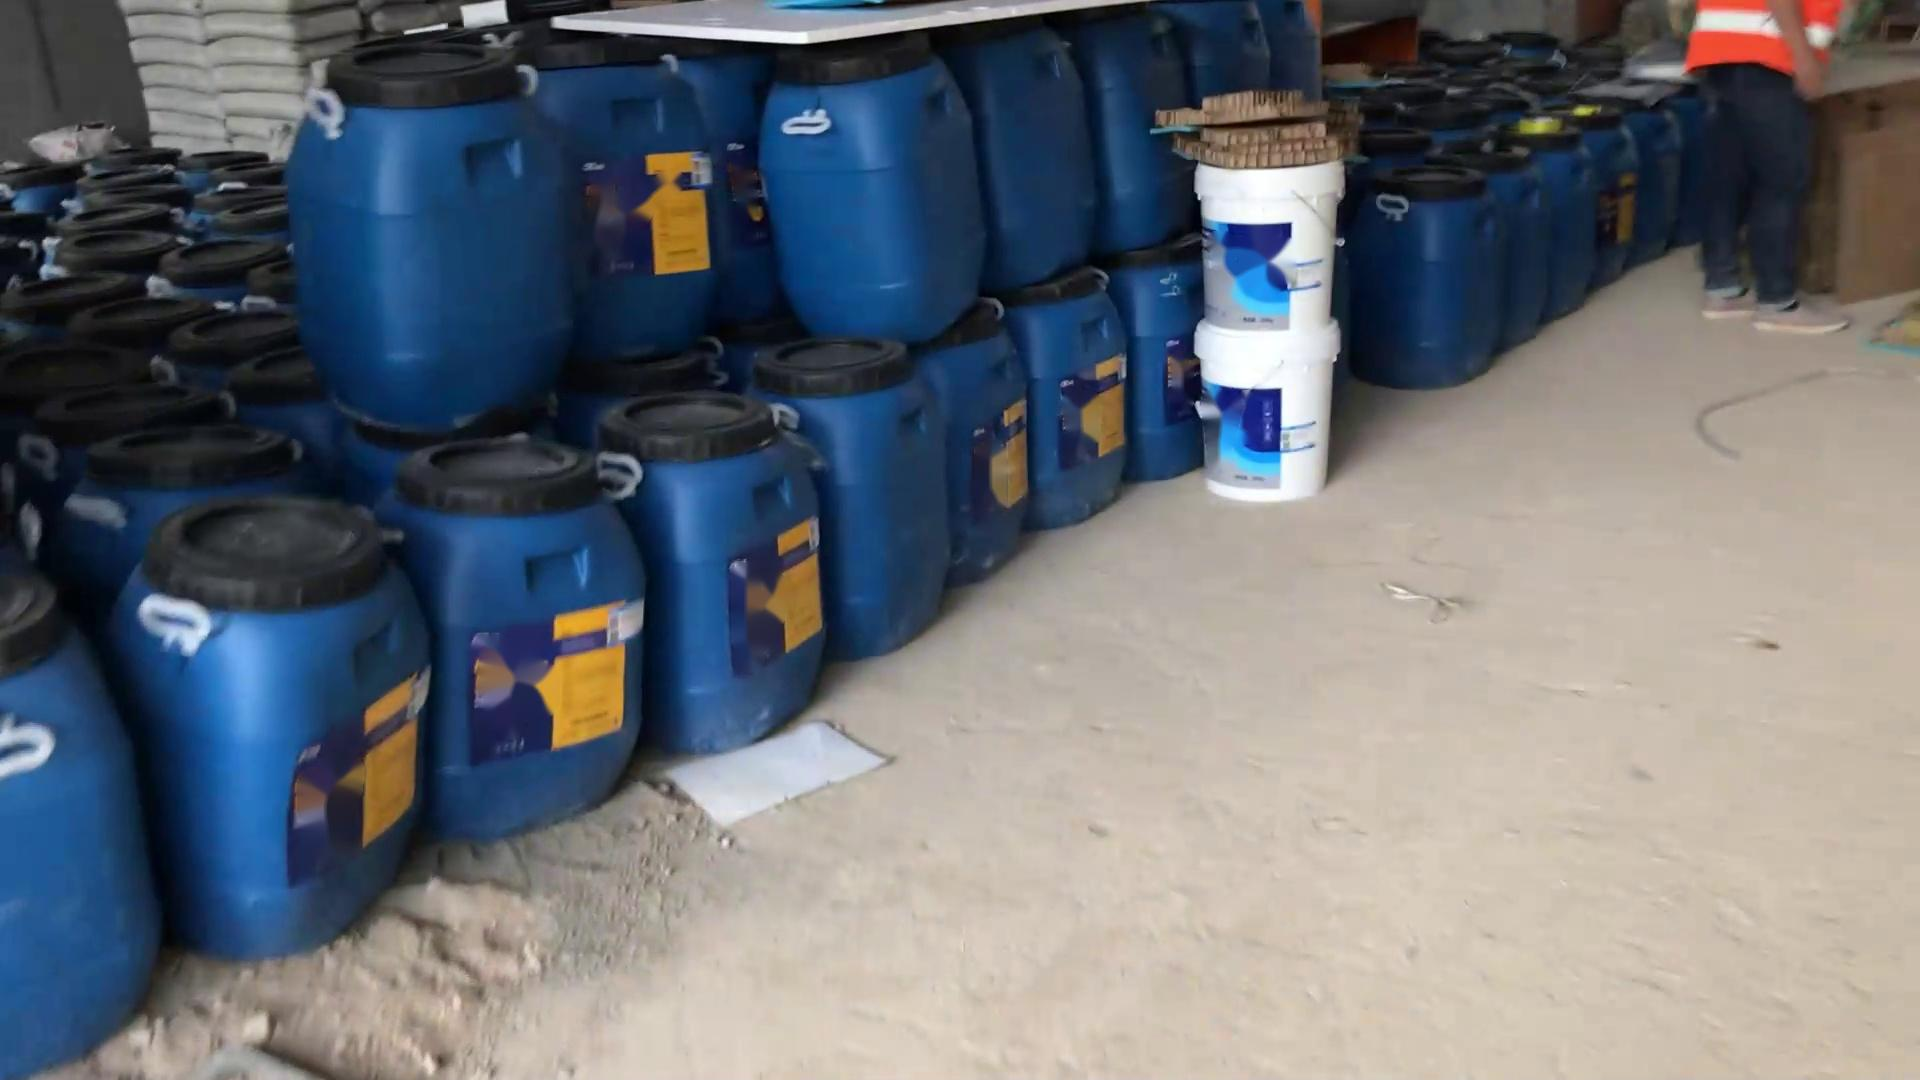person: (1656, 1, 1869, 356)
vest: (1688, 1, 1830, 76)
